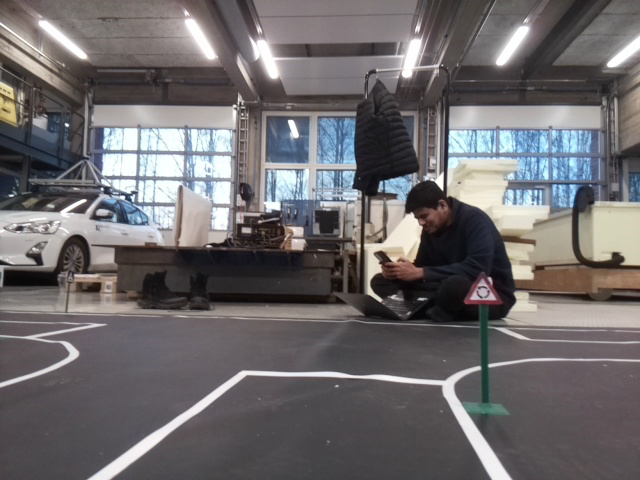Roundabout: (461, 270, 506, 303)
